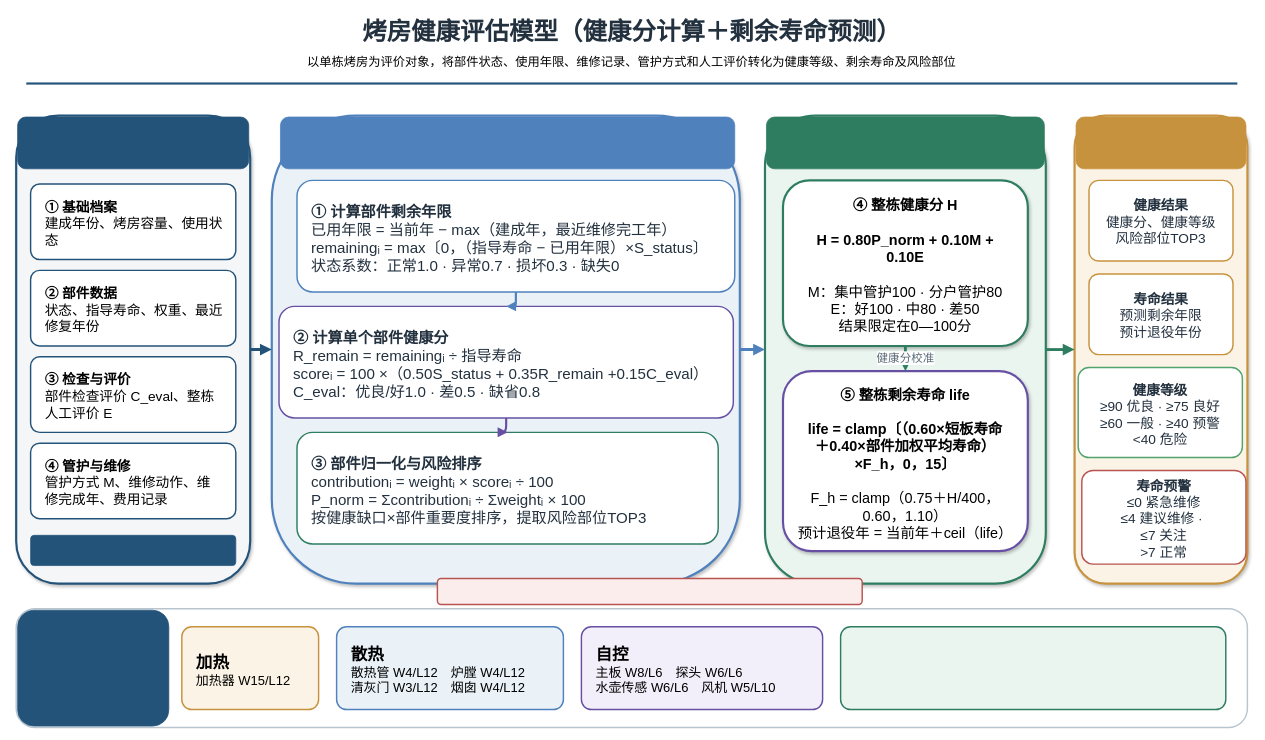
Image size: 1265x740. Some labels were removed from this diagram. Each missing label, with the centre of its shape:
"12个部件参数 W＝权重 L＝指导寿命（年）" goes at point (93, 667).
"主体 屋顶/墙体 W10/L15 挂烟梁柱 W5/L10 大门 W10/L10" goes at point (1033, 668).
"当前年份作为统一计算基准" goes at point (133, 550).
"数据输入 基础台账＋动态业务记录" goes at point (133, 142).
"整栋综合评估 健康分校准剩余寿命" goes at point (905, 142).
"模型输出 支撑排查与修复决策" goes at point (1160, 142).
"维修完成 → 使用年限按完工年重置＋健康加分 → 重新计算健康分与剩余寿命" goes at point (649, 591).
"逐部件计算 12个部件依次计算并归一化" goes at point (507, 142).
